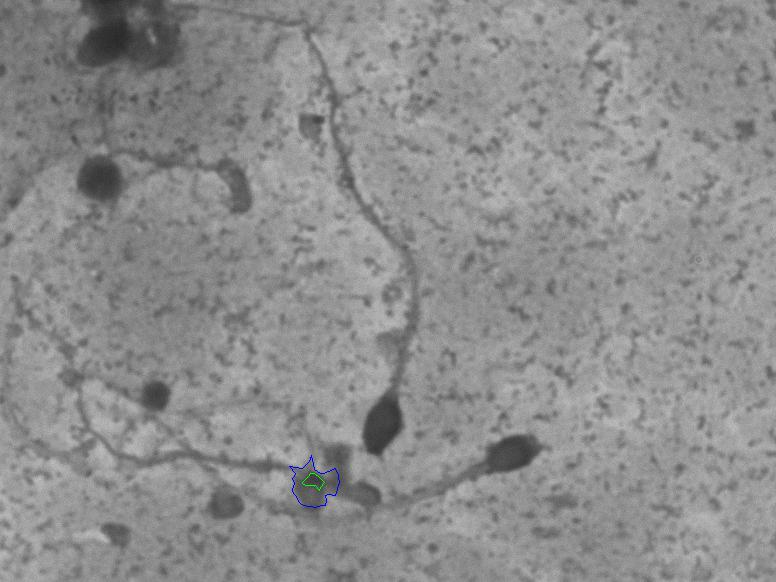Normal: (4, 273, 565, 538), (218, 5, 432, 467)
